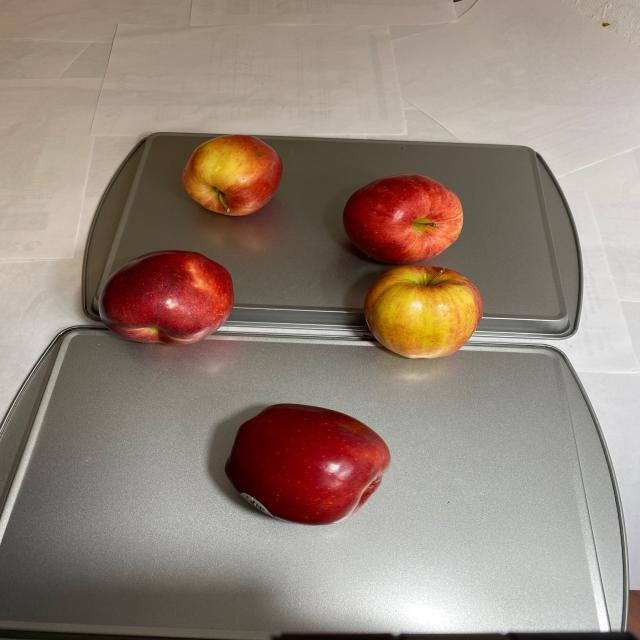apple: (95, 134, 483, 531)
